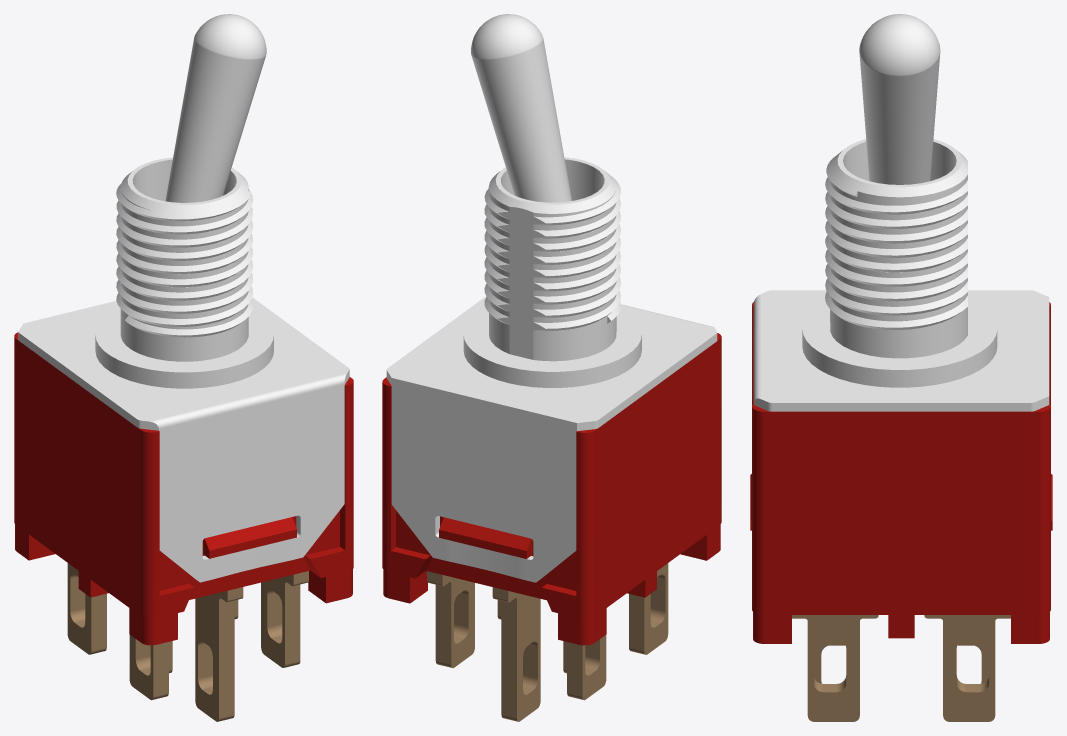
The model's file is switch_toggle_sub-mini_DPDT_onoff_short_lever.glb.
The picture shows the model from 3 angles, left to right: view 1: azimuth 30°, elevation 25°; view 2: azimuth 150°, elevation 25°; view 3: azimuth 270°, elevation 25°; orthographic projection. The views are drawn at different scales.
Parts seen in each view (by area): view 1: Solid2, Solid1, Solid3, Solid5; view 2: Solid2, Solid1, Solid3, Solid5; view 3: Solid1, Solid2, Solid5, Solid3.
Boxes of the visible parts, bbox=[...] form: Solid2: bbox=[18, 157, 349, 582]; Solid1: bbox=[14, 332, 353, 645]; Solid3: bbox=[67, 563, 308, 721]; Solid5: bbox=[165, 14, 266, 202]; Solid2: bbox=[386, 157, 717, 582]; Solid1: bbox=[382, 333, 721, 645]; Solid3: bbox=[427, 563, 668, 721]; Solid5: bbox=[471, 14, 571, 202]; Solid1: bbox=[750, 302, 1052, 643]; Solid2: bbox=[753, 139, 1049, 411]; Solid5: bbox=[859, 14, 940, 184]; Solid3: bbox=[792, 615, 1010, 721].
Size of the model in its own units: 0.0082 by 0.0246 by 0.0093.
